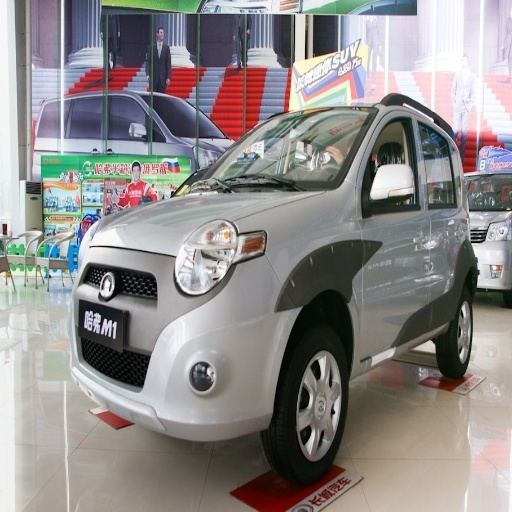front_bumper: (71, 247, 296, 441)
front_glass: (187, 113, 371, 186)
front_left_door: (362, 103, 430, 351)
